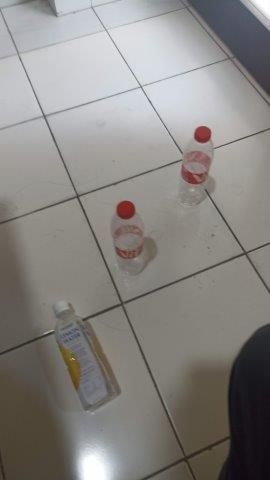botolplastik: (52, 300, 112, 408), (181, 126, 214, 207), (111, 201, 146, 277)
